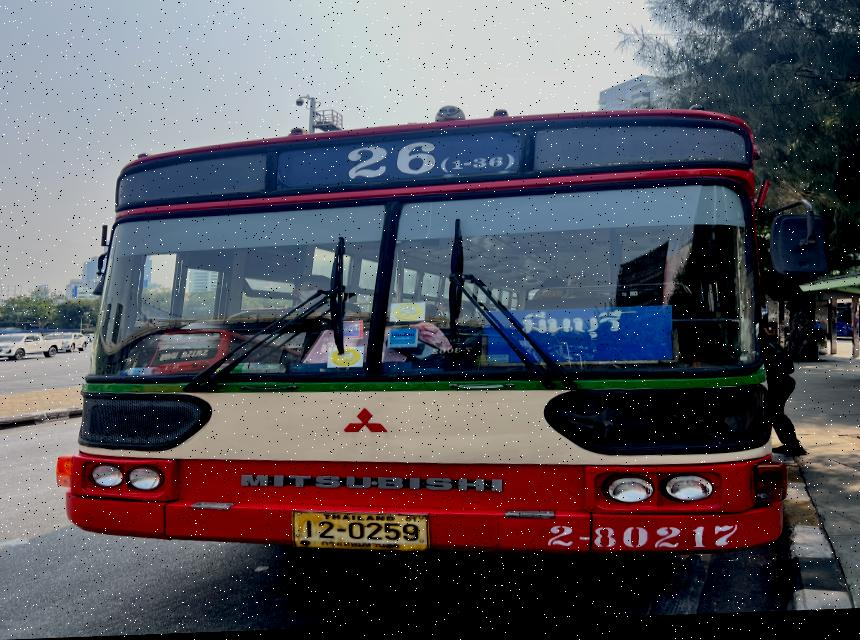BMTA-bus: (55, 108, 801, 563)
Bus Line Number: (271, 137, 528, 194)
Bus Side Number: (534, 521, 754, 564)
Destination Sign: (486, 308, 678, 373)
